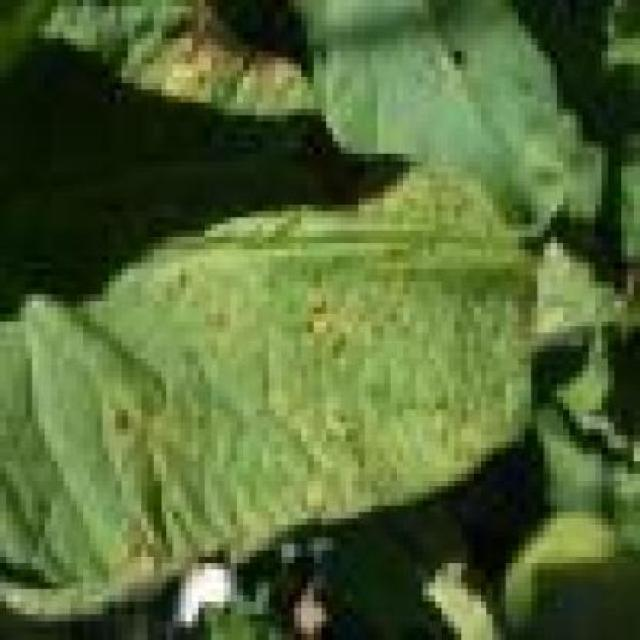Septoria leaf spot: (7, 149, 552, 623)
